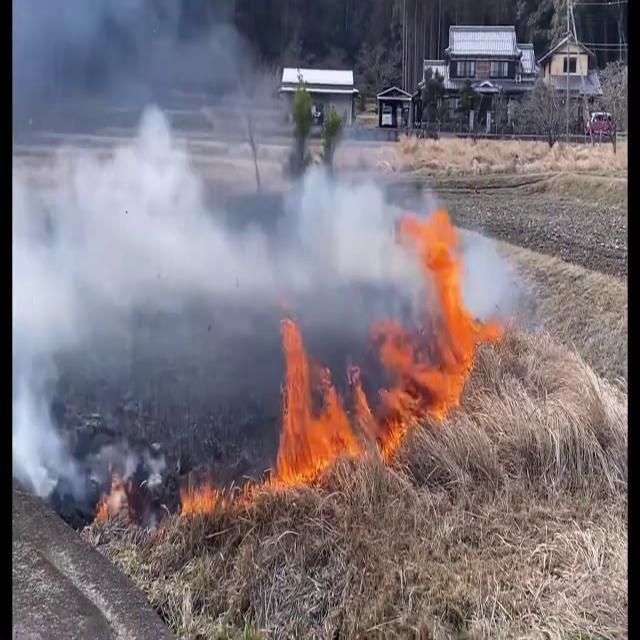Fire: (408, 205, 500, 421), (268, 311, 374, 488)
Smoke: (14, 62, 434, 508)
